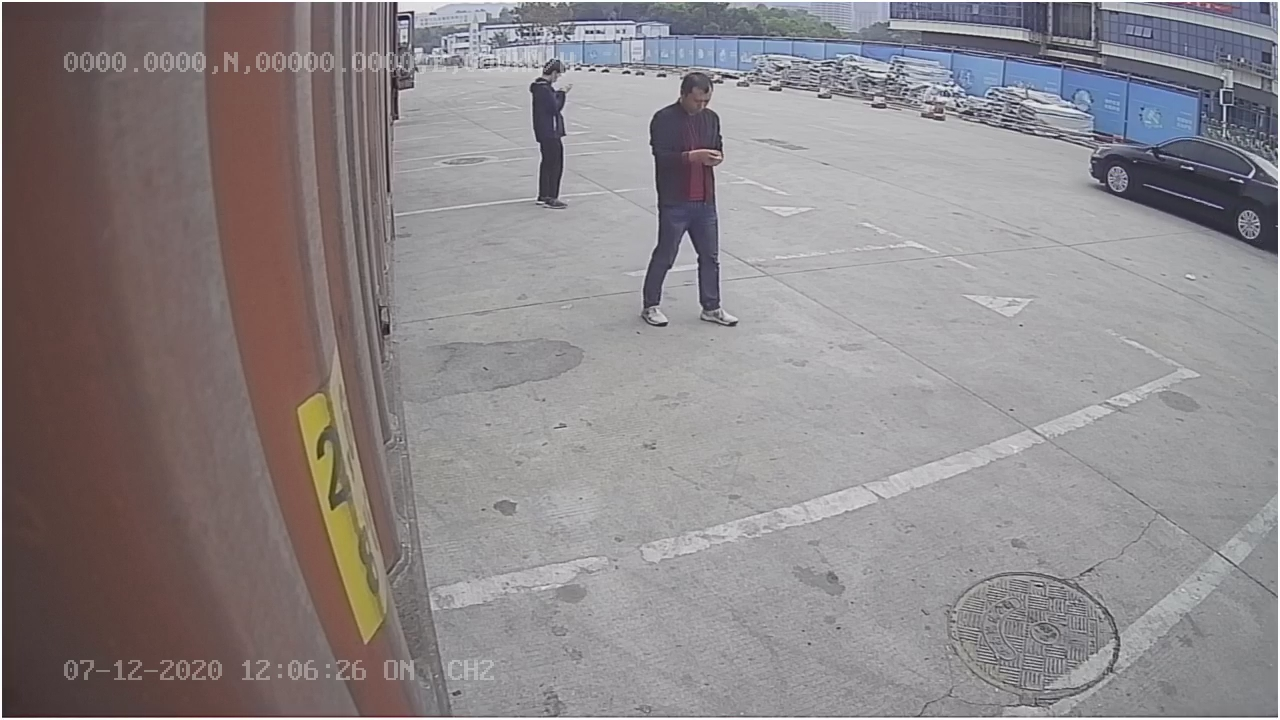person: (636, 72, 741, 329)
